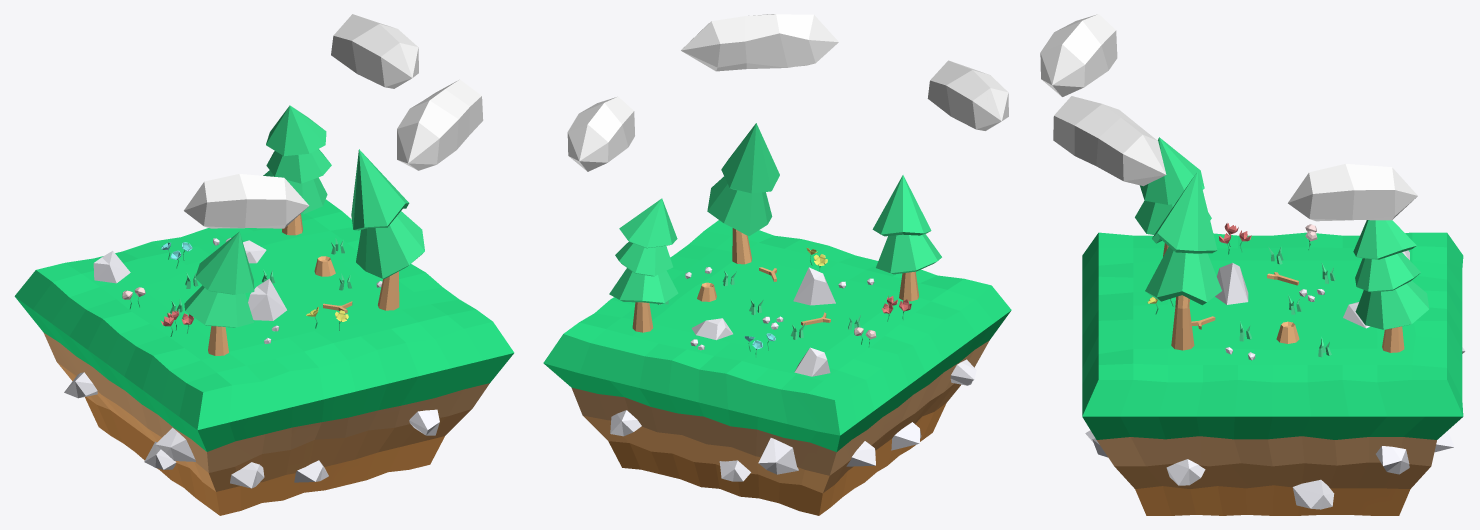
The model's file is low_poly_style_-_grassland.glb.
3 views of the same model, side by side, from view 1: azimuth 30°, elevation 25°; view 2: azimuth 150°, elevation 25°; view 3: azimuth 270°, elevation 25° (orthographic). The views are drawn at different scales.
Parts seen in each view (by area): view 1: Terrain 01, Tree 02, Cloud 01, Cloud 02, Tree 01, Tree 03, Cloud 01.001, Rock 02, Rock 01, Rock 02.003, Rock 02.005, Rock 02.006; view 2: Terrain 01, Cloud 02, Tree 02, Tree 03, Tree 01, Cloud 01, Cloud 01.001, Rock 02, Rock 02.002, Rock 01, Rock 03, Rock 02.001 (+2 smaller); view 3: Terrain 01, Tree 02, Tree 03, Cloud 02, Cloud 01.001, Cloud 01, Tree 01, Rock 02, Rock 01.008, Rock 02.007, Rock 02.008.
Part boxes in pixels (x1,y1,x2,y2): Terrain 01: (14,199,514,515); Tree 02: (351,149,424,310); Cloud 01: (184,174,309,228); Cloud 02: (397,79,483,170); Tree 01: (184,231,254,355); Tree 03: (263,105,331,235); Cloud 01.001: (331,14,418,88); Rock 02: (248,278,286,320); Rock 01: (93,251,130,283); Rock 02.003: (155,427,195,461); Rock 02.005: (230,462,264,488); Rock 02.006: (409,409,439,435); Terrain 01: (543,220,1011,515); Cloud 02: (681,14,838,71); Tree 02: (707,123,779,264); Tree 03: (609,198,678,332); Tree 01: (872,175,941,301); Cloud 01: (927,60,1008,130); Cloud 01.001: (567,96,634,171); Rock 02: (793,267,835,305); Rock 02.002: (758,438,798,474); Rock 01: (794,347,830,376); Rock 03: (691,318,732,340); Rock 02.001: (610,410,641,436); Terrain 01: (1082,232,1463,515); Tree 02: (1145,171,1221,350); Tree 03: (1353,220,1429,352); Cloud 02: (1053,96,1166,186); Cloud 01.001: (1288,164,1417,221); Cloud 01: (1040,14,1117,96); Tree 01: (1135,137,1211,256); Rock 02: (1215,263,1248,304); Rock 01.008: (1292,479,1334,509); Rock 02.007: (1376,446,1409,474); Rock 02.008: (1166,459,1205,485).
Bounding box in the file's own units: 1052 × 1164 × 1115.
1 material, 1 textured.
